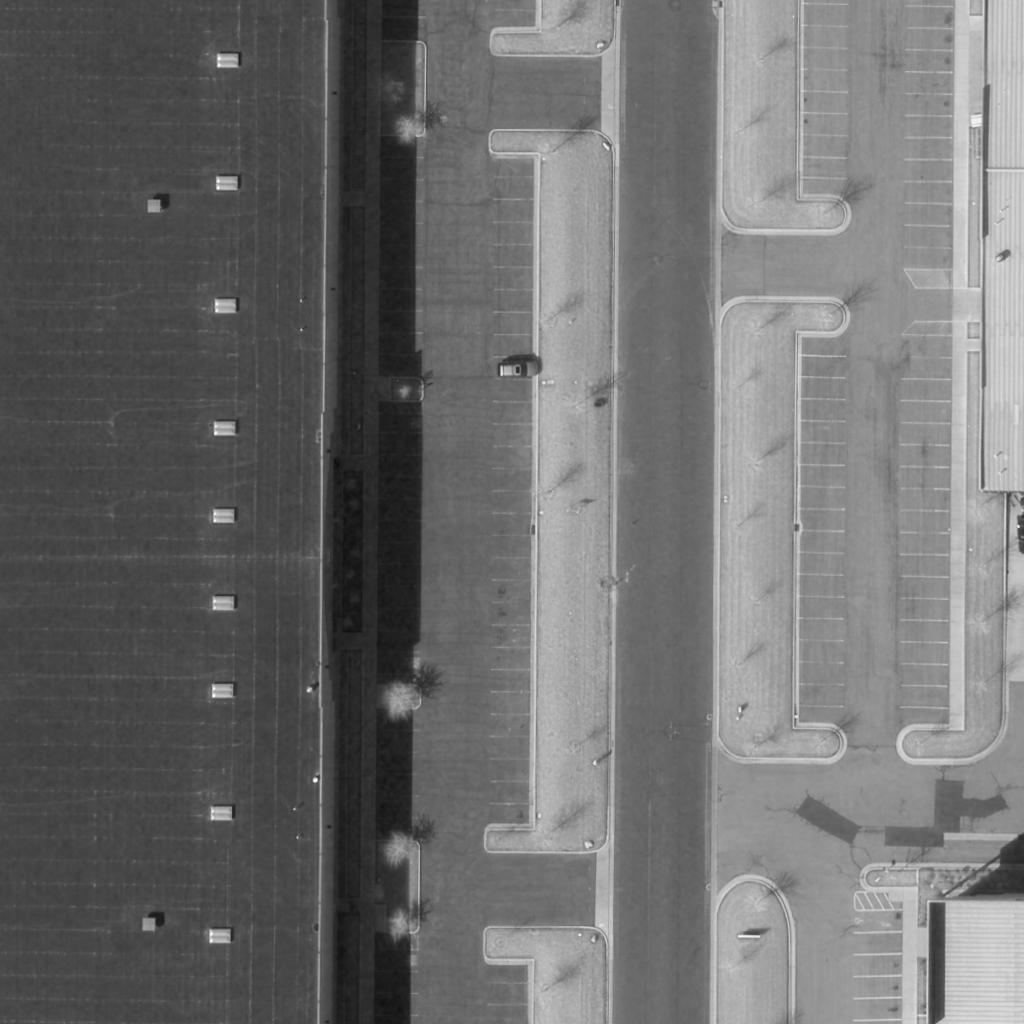vehicle: (499, 362, 539, 378)
